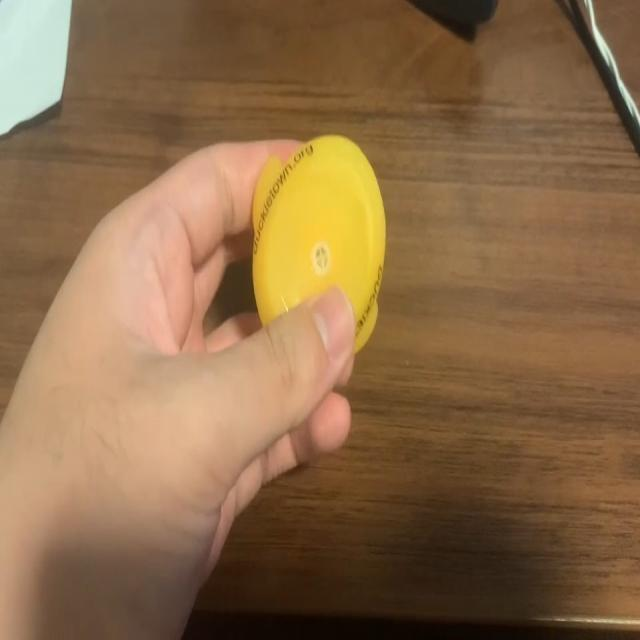rubber-duck: (252, 134, 384, 350)
